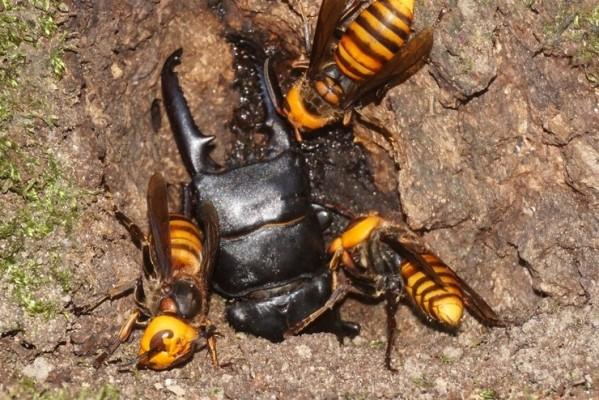asian_giant_hornet: (102, 180, 225, 371), (317, 200, 473, 330), (279, 1, 416, 146)
